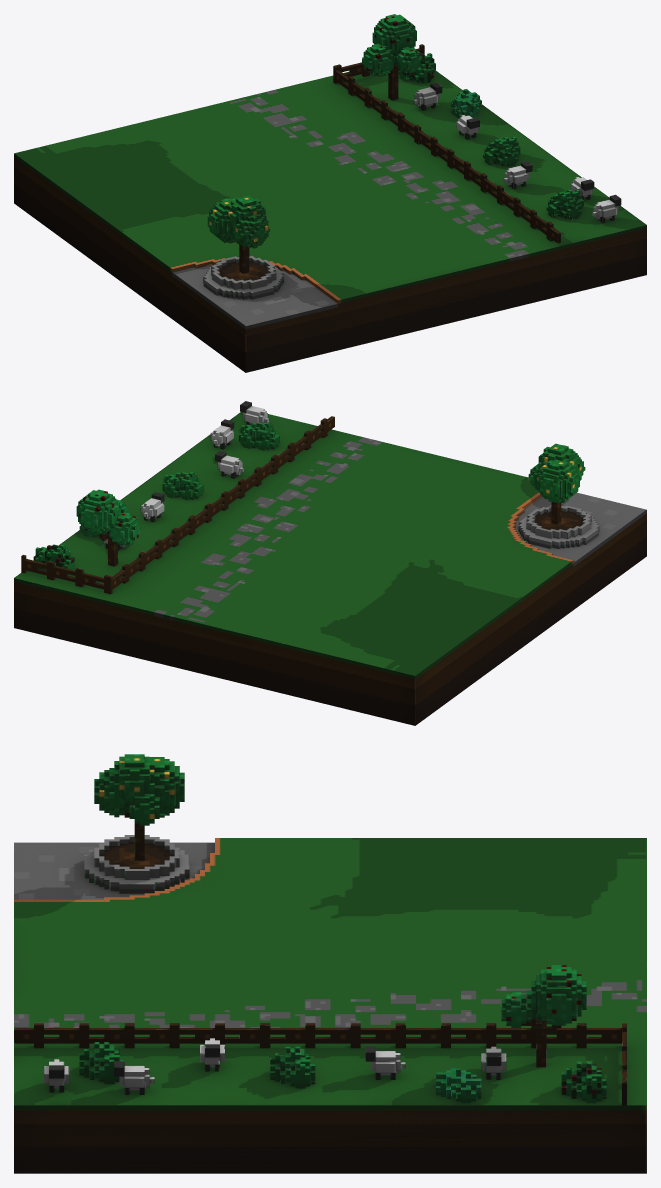
3 renders of one model, top to bottom at view 1: azimuth 30°, elevation 25°; view 2: azimuth 150°, elevation 25°; view 3: azimuth 270°, elevation 25°, orthographic. The views are drawn at different scales.
Parts seen in each view (by area): view 1: _D; view 2: _D; view 3: _D.
Part boxes in pixels (left/top/right/bottom): _D: left=14, top=14, right=646, bottom=372; _D: left=14, top=401, right=646, bottom=725; _D: left=14, top=754, right=646, bottom=1173.
Size of the model in its own units: 126 by 126 by 39.
1 material, 1 textured.
